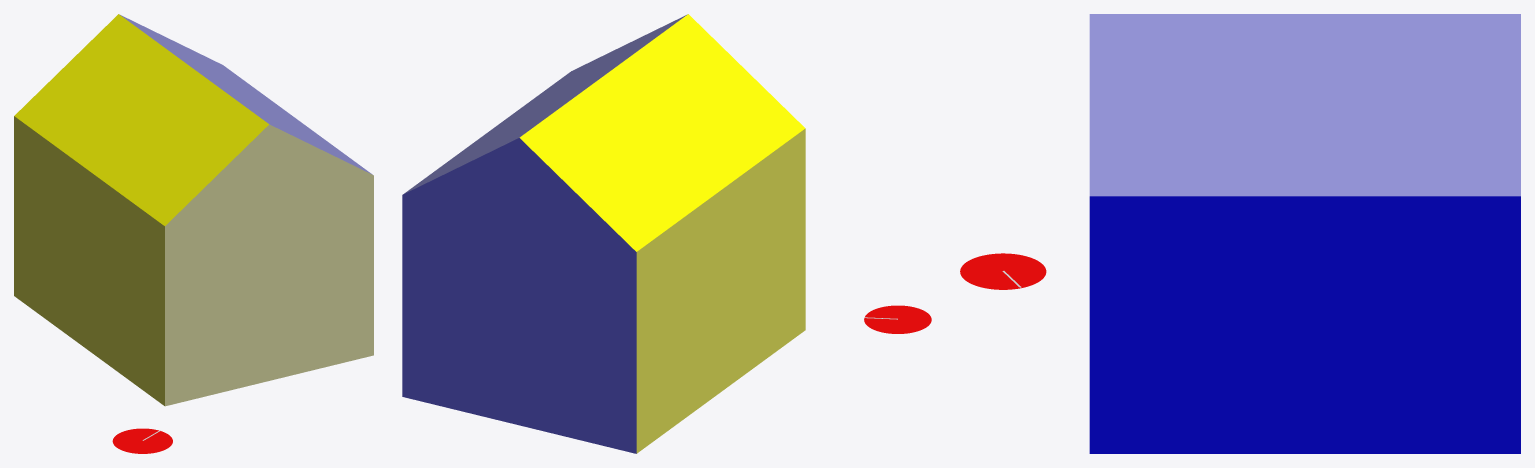
File: result.glb
3 renders of one model, left to right at view 1: azimuth 30°, elevation 25°; view 2: azimuth 150°, elevation 25°; view 3: azimuth 270°, elevation 25°, orthographic. The views are drawn at different scales.
Parts seen in each view (by area): view 1: 76213c4d-5e3e-4116-aba4-57124d5b4871__undefined, 4dbab810-e20e-4c2b-ac25-744131a404c1__undefined, 2401548d-a03b-4775-adee-41089ee0bd0f__undefined, 905e34cf-3fb0-42c7-b9c4-8d9dcd331c83__undefined, 0cab3b66-1726-4aae-84e1-4c61a2a9650f__Circle; view 2: 7862a808-c4ca-49d0-bf4f-af0df25f4751__undefined, 4dbab810-e20e-4c2b-ac25-744131a404c1__undefined, 2401548d-a03b-4775-adee-41089ee0bd0f__undefined, 905e34cf-3fb0-42c7-b9c4-8d9dcd331c83__undefined, 0cab3b66-1726-4aae-84e1-4c61a2a9650f__Circle; view 3: 35ca9c85-5d97-4b9b-926b-2f184c9e205d__undefined, 905e34cf-3fb0-42c7-b9c4-8d9dcd331c83__undefined, 0cab3b66-1726-4aae-84e1-4c61a2a9650f__Circle.
Part boxes in pixels (<box>): 76213c4d-5e3e-4116-aba4-57124d5b4871__undefined: <box>165,124,373,406</box>; 4dbab810-e20e-4c2b-ac25-744131a404c1__undefined: <box>14,116,164,405</box>; 2401548d-a03b-4775-adee-41089ee0bd0f__undefined: <box>14,14,268,225</box>; 905e34cf-3fb0-42c7-b9c4-8d9dcd331c83__undefined: <box>119,14,372,174</box>; 0cab3b66-1726-4aae-84e1-4c61a2a9650f__Circle: <box>112,428,172,453</box>; 7862a808-c4ca-49d0-bf4f-af0df25f4751__undefined: <box>402,138,636,453</box>; 4dbab810-e20e-4c2b-ac25-744131a404c1__undefined: <box>636,128,805,453</box>; 2401548d-a03b-4775-adee-41089ee0bd0f__undefined: <box>519,14,805,251</box>; 905e34cf-3fb0-42c7-b9c4-8d9dcd331c83__undefined: <box>403,14,687,194</box>; 0cab3b66-1726-4aae-84e1-4c61a2a9650f__Circle: <box>864,305,931,333</box>; 35ca9c85-5d97-4b9b-926b-2f184c9e205d__undefined: <box>1089,196,1520,453</box>; 905e34cf-3fb0-42c7-b9c4-8d9dcd331c83__undefined: <box>1089,14,1520,196</box>; 0cab3b66-1726-4aae-84e1-4c61a2a9650f__Circle: <box>960,253,1046,289</box>.
Bounding box in the file's own units: 550 × 469 × 650.
